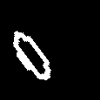chain: (13, 32, 50, 79)
